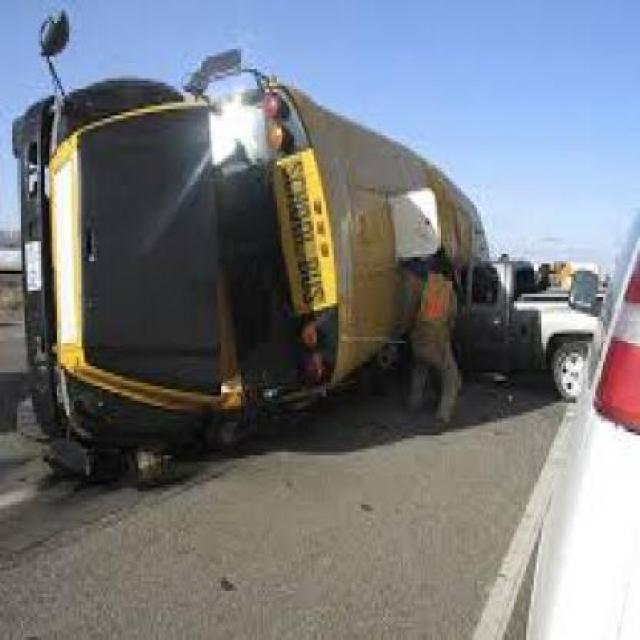accident: (4, 4, 599, 487)
